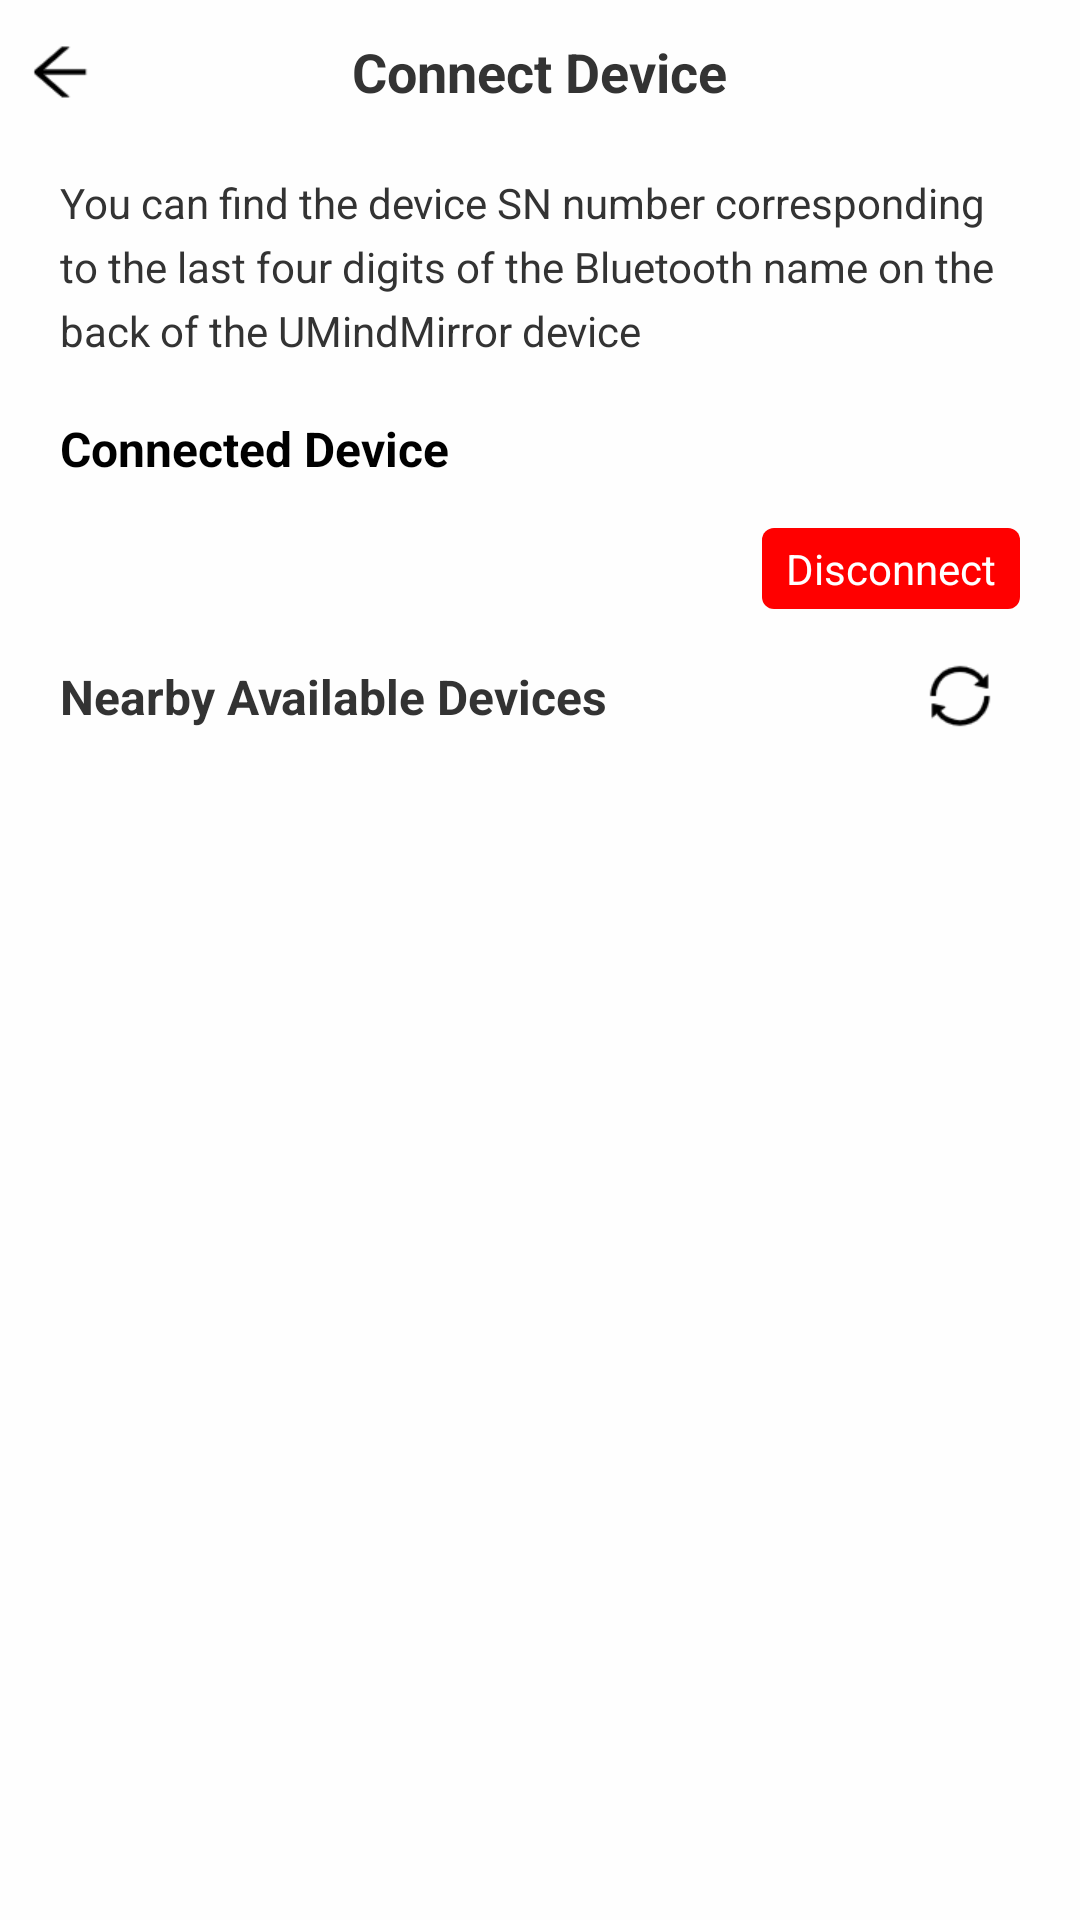

Where icons sit on this 1080px×1920px app screen, as (left=x1, top=y1, right=x2, bottom=y2):
arrowleft: (left=34, top=46, right=87, bottom=98)
sync: (left=929, top=665, right=991, bottom=727)
